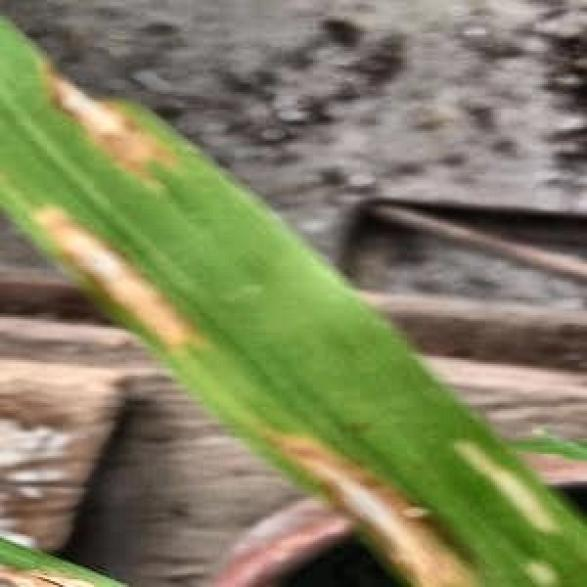Leaf_smut: (37, 61, 337, 360), (272, 423, 565, 585)
